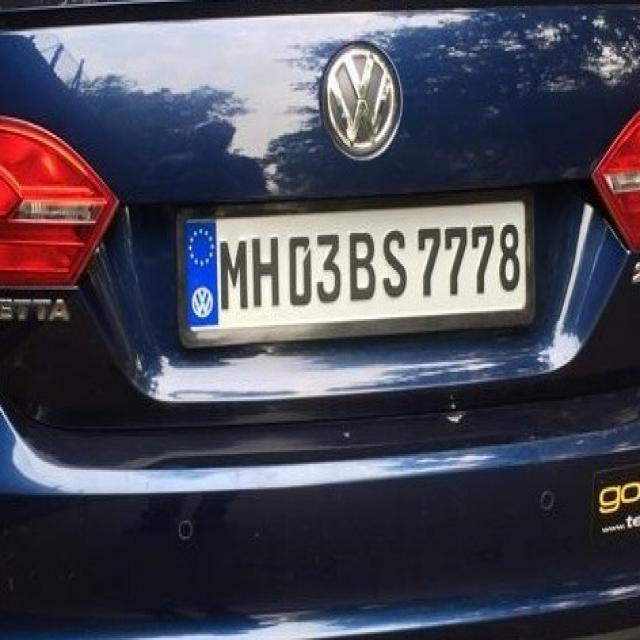license-plate: (183, 200, 526, 330)
